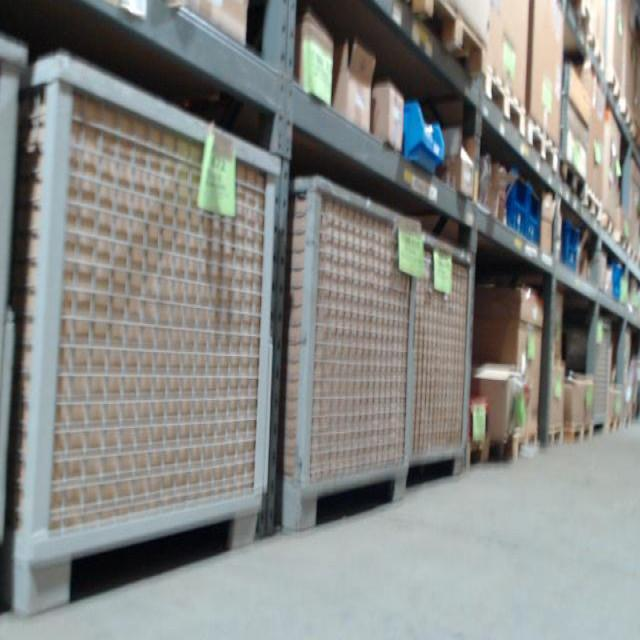pallet: (398, 0, 490, 90), (481, 61, 526, 147), (525, 112, 557, 178), (559, 155, 590, 211), (503, 427, 541, 468), (528, 420, 568, 456), (583, 189, 606, 232), (563, 421, 586, 449)
small_load_carrier: (503, 163, 527, 241), (559, 217, 583, 275), (524, 184, 540, 246), (614, 264, 624, 305)
stillage: (10, 44, 299, 623), (281, 131, 423, 527), (3, 24, 39, 617), (409, 215, 482, 498), (559, 310, 618, 435)
